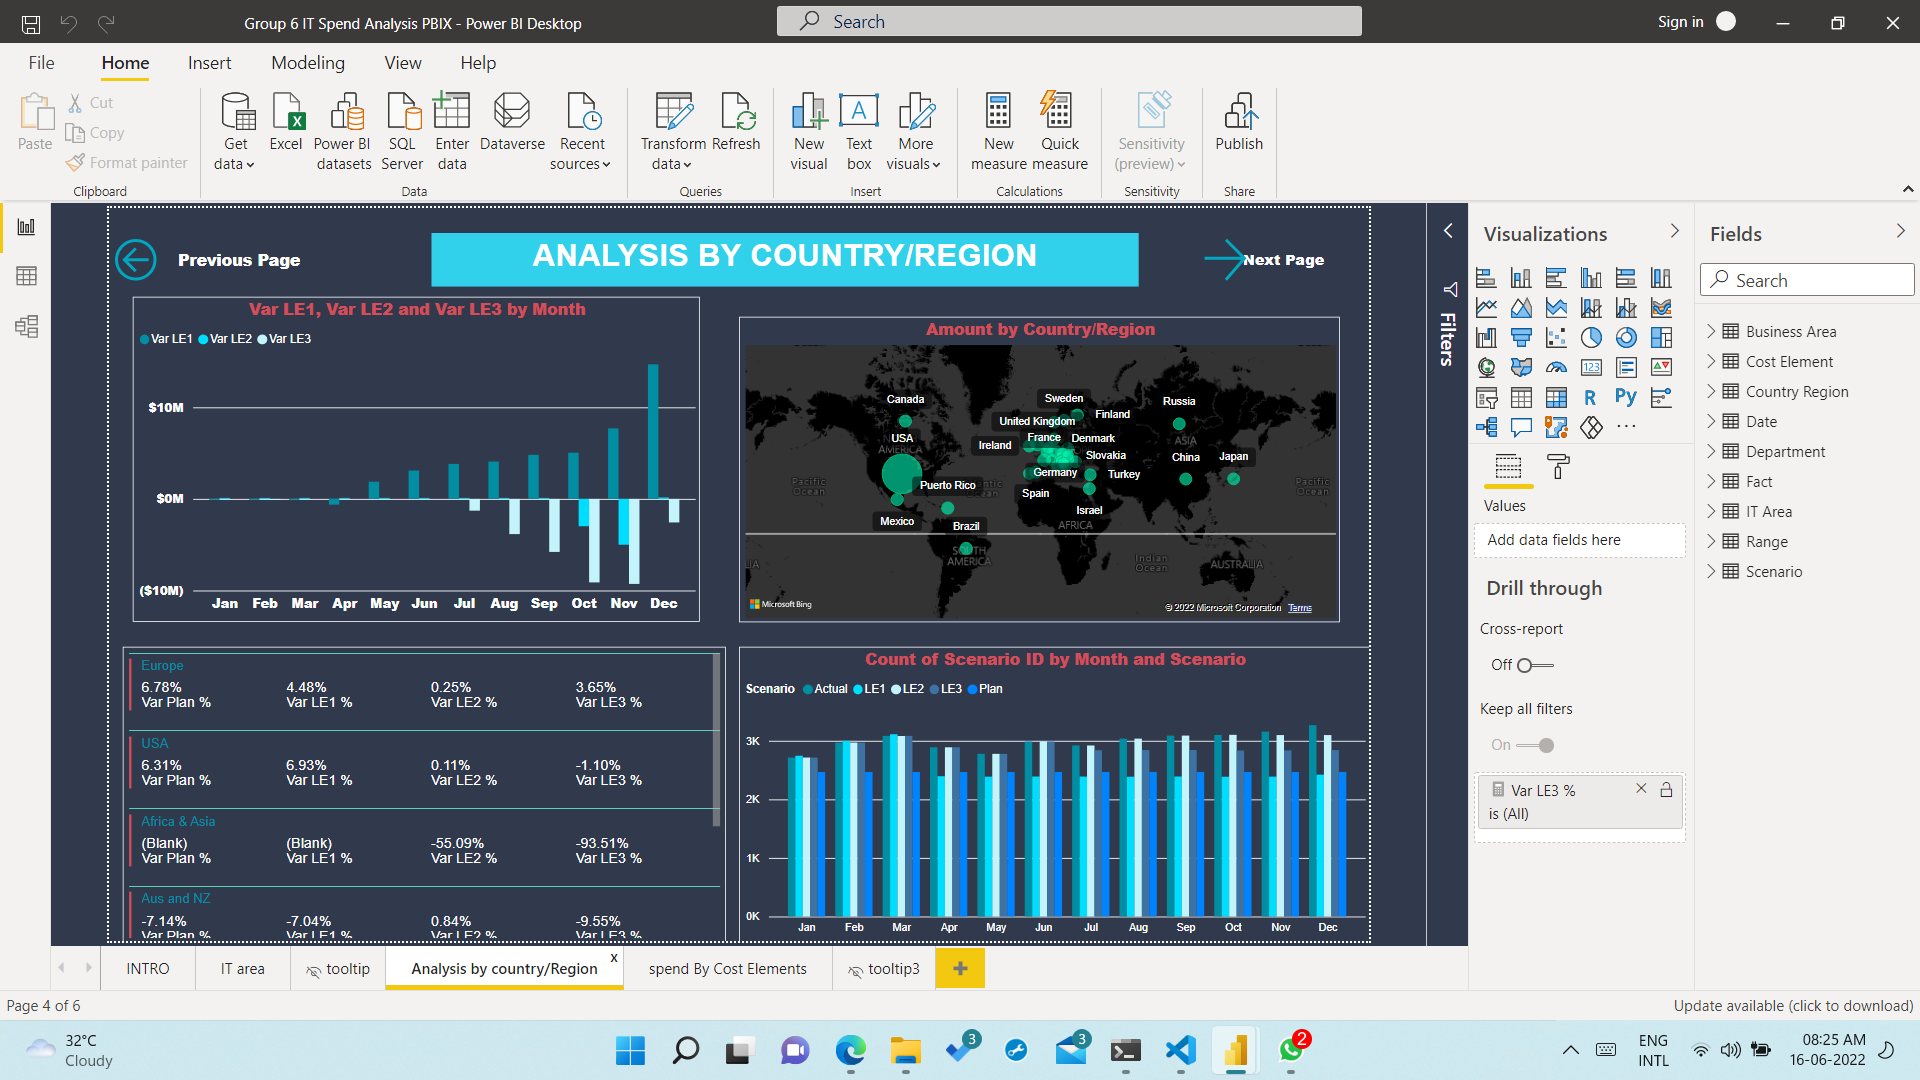

Layout of this report page (visuals, bound fields, positions):
{"tool":"powerbi","page":{"name":"Analysis by country/Region","canvas":[1280,720],"ordinal":3},"visuals":[{"type":"map","fields":{"Size":["Fact.Amount"],"Category":["Country Region.Country/Region"]},"box":[639.5,84.6,610.4,310.8],"z":0},{"type":"clusteredColumnChart","fields":{"Category":["Date.Month"],"Y":["Fact.Var LE1","Fact.Var LE2","Fact.Var LE3"]},"box":[23.6,65.2,575.7,330.2],"z":1000},{"type":"clusteredColumnChart","fields":{"Category":["Date.Month"],"Y":["CountNonNull(Fact.Scenario ID)"],"Series":["Scenario.Scenario"]},"box":[639.5,420.3,640.9,299.7],"z":2000},{"type":"multiRowCard","fields":{"Values":["Fact.Var Plan %","Country Region.Sales Region","Fact.Var LE1 %","Fact.Var LE2 %","Fact.Var LE3 %"]},"box":[13.9,420.3,613.2,299.7],"z":3000},{"type":"actionButton","box":[0,0,198.4,54.1],"z":4000},{"type":"actionButton","box":[1105.7,0,174.8,54.1],"z":5000},{"type":"textbox","box":[327.4,0,718.6,54.1],"z":6000}]}

Visuals, with their boxes on the page's 1280x720 design canvas (x1, y1, x2, y2). These are canvas units, not pixel positions in the 1920x1080 screenshot, which may show the page scaled, cropped or inside an application window:
map - Fact.Amount x Country Region.Country/Region: (640, 85, 1250, 395)
clusteredColumnChart - Date.Month x Fact.Var LE1: (24, 65, 599, 395)
clusteredColumnChart - Date.Month x CountNonNull(Fact.Scenario ID): (640, 420, 1280, 720)
multiRowCard - Fact.Var Plan % x Country Region.Sales Region: (14, 420, 627, 720)
actionButton: (0, 0, 198, 54)
actionButton: (1106, 0, 1280, 54)
textbox: (327, 0, 1046, 54)
